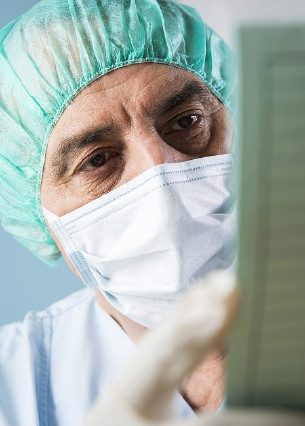Mask: (39, 92, 285, 338)
